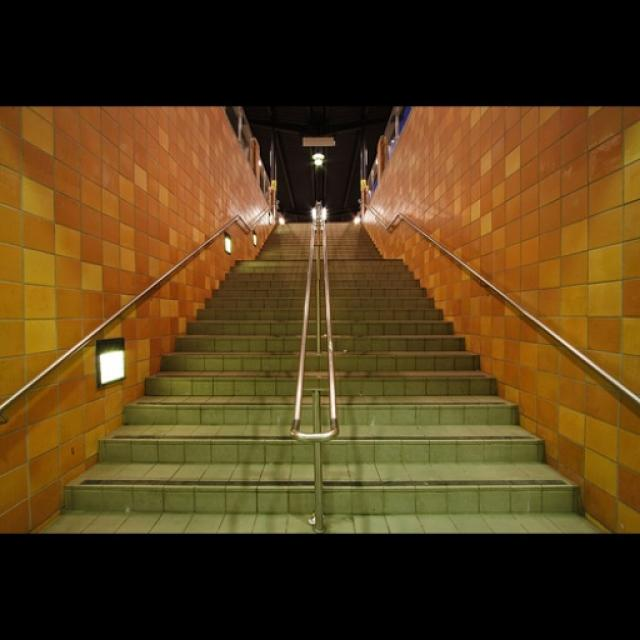stair: (322, 223, 594, 532)
